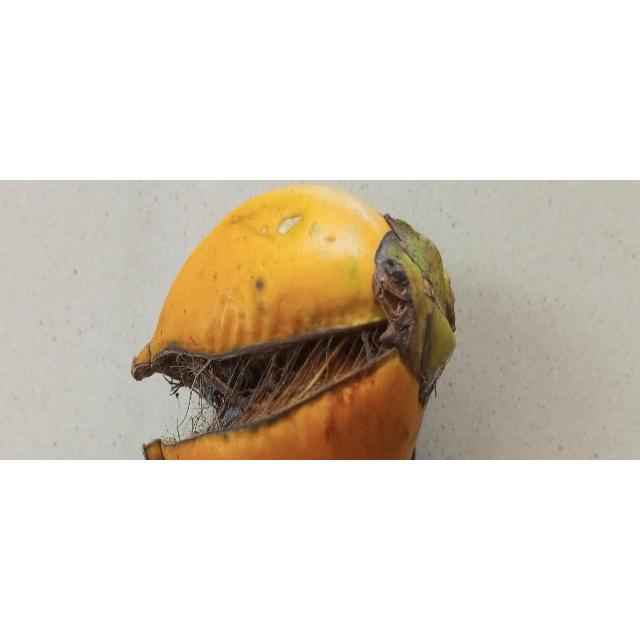damaged: (130, 185, 457, 461)
